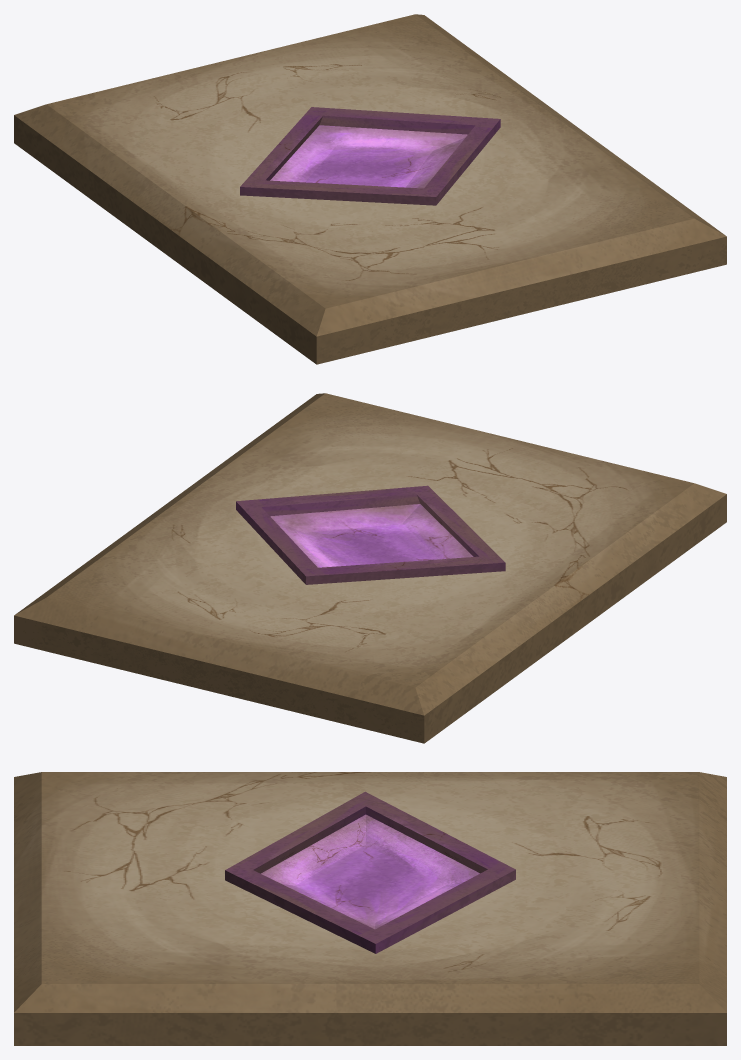
Rendered from PressurePlate.fbx.
3 renders of one model, top to bottom at view 1: azimuth 30°, elevation 25°; view 2: azimuth 150°, elevation 25°; view 3: azimuth 270°, elevation 25°, orthographic. The views are drawn at different scales.
Visible parts, largest first — view 1: Mesh_PressurePlate; view 2: Mesh_PressurePlate; view 3: Mesh_PressurePlate.
Boxes of the visible parts, left/top/right/bottom form: Mesh_PressurePlate: left=14, top=14, right=726, bottom=364; Mesh_PressurePlate: left=14, top=393, right=726, bottom=743; Mesh_PressurePlate: left=14, top=772, right=726, bottom=1045.
Bounding box in the file's own units: 20205 × 15814 × 1878.
1 material, 1 textured.
